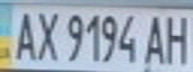1: (81, 10, 103, 62)
4: (118, 10, 142, 64)
9: (60, 9, 84, 62), (100, 10, 121, 63)
A: (6, 6, 39, 62), (139, 11, 169, 65)
H: (160, 11, 193, 65)
X: (33, 7, 60, 62)
